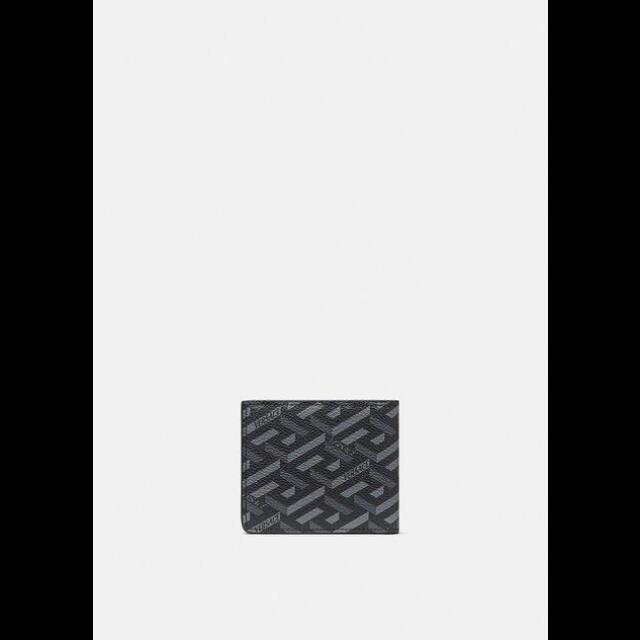wallet: (240, 397, 396, 535)
